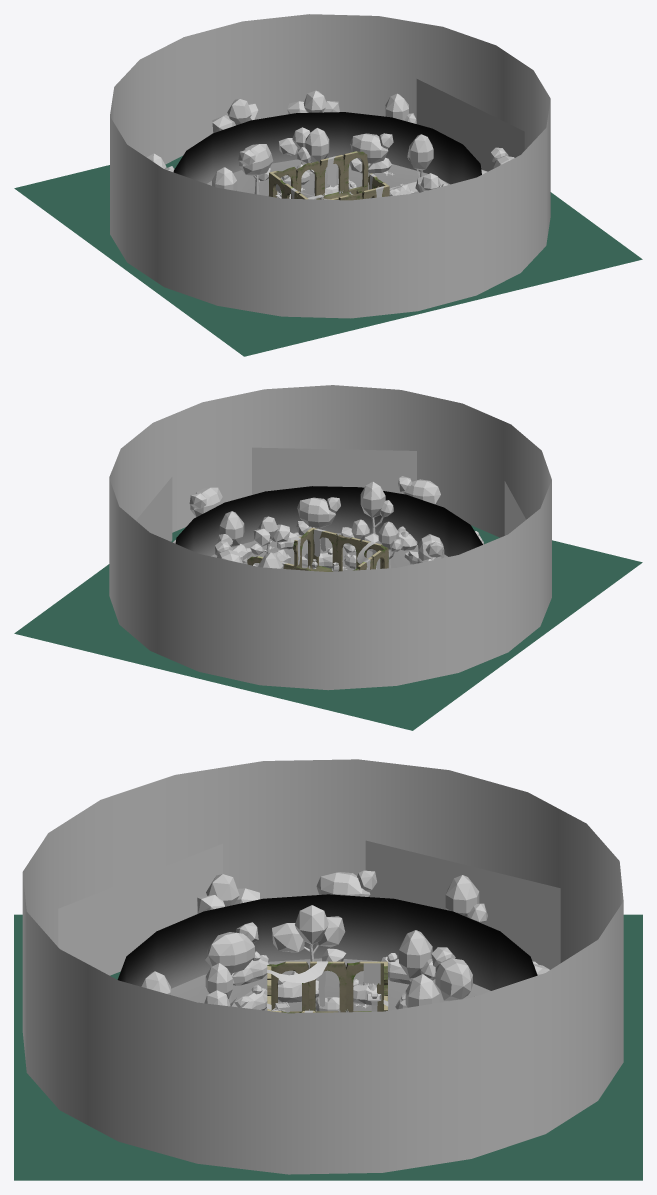
Rendered from temple.fbx.
The picture shows the model from 3 angles, top to bottom: view 1: azimuth 30°, elevation 25°; view 2: azimuth 150°, elevation 25°; view 3: azimuth 270°, elevation 25°; orthographic projection. The views are drawn at different scales.
Parts seen in each view (by area): view 1: mountain, land, fog, tree, tree_far, bush, tree_ver2_, wall_05, wall_04, cloth, wall_08; view 2: mountain, land, fog, tree_far, tree, bush, tree_ver3_, tree_ver2_, wall_06, tree_ver1_, cloth; view 3: mountain, land, fog, tree_far, tree, bush, wall_05, wall_01, cloth, wall_02, bush_ver5, bush_ver3.
Boxes of the visible parts, bbox=[...] form: mountain: bbox=[110, 14, 550, 318]; land: bbox=[14, 156, 642, 356]; fog: bbox=[173, 112, 481, 197]; tree: bbox=[147, 90, 514, 194]; tree_far: bbox=[416, 79, 524, 171]; bush: bbox=[166, 157, 487, 198]; tree_ver2_: bbox=[407, 134, 433, 177]; wall_05: bbox=[269, 167, 296, 198]; wall_04: bbox=[343, 151, 368, 191]; cloth: bbox=[290, 156, 384, 199]; wall_08: bbox=[320, 155, 344, 196]; mountain: bbox=[109, 385, 551, 690]; land: bbox=[14, 525, 642, 730]; fog: bbox=[175, 486, 482, 571]; tree_far: bbox=[136, 447, 526, 541]; tree: bbox=[189, 482, 444, 568]; bush: bbox=[173, 526, 483, 568]; tree_ver3_: bbox=[398, 476, 440, 504]; tree_ver2_: bbox=[217, 511, 244, 550]; wall_06: bbox=[299, 527, 337, 567]; tree_ver1_: bbox=[341, 519, 380, 552]; cloth: bbox=[281, 529, 376, 569]; mountain: bbox=[22, 759, 623, 1174]; land: bbox=[14, 914, 642, 1180]; fog: bbox=[117, 894, 537, 1011]; tree_far: bbox=[58, 840, 560, 975]; tree: bbox=[139, 870, 487, 1007]; bush: bbox=[117, 961, 549, 1011]; wall_05: bbox=[346, 961, 387, 1012]; wall_01: bbox=[267, 961, 308, 1011]; cloth: bbox=[267, 961, 388, 1012]; wall_02: bbox=[309, 961, 346, 1012]; bush_ver5: bbox=[231, 951, 269, 985]; bush_ver3: bbox=[230, 984, 267, 1010].
Bounding box in the file's own units: 6187 × 1961 × 6187.
